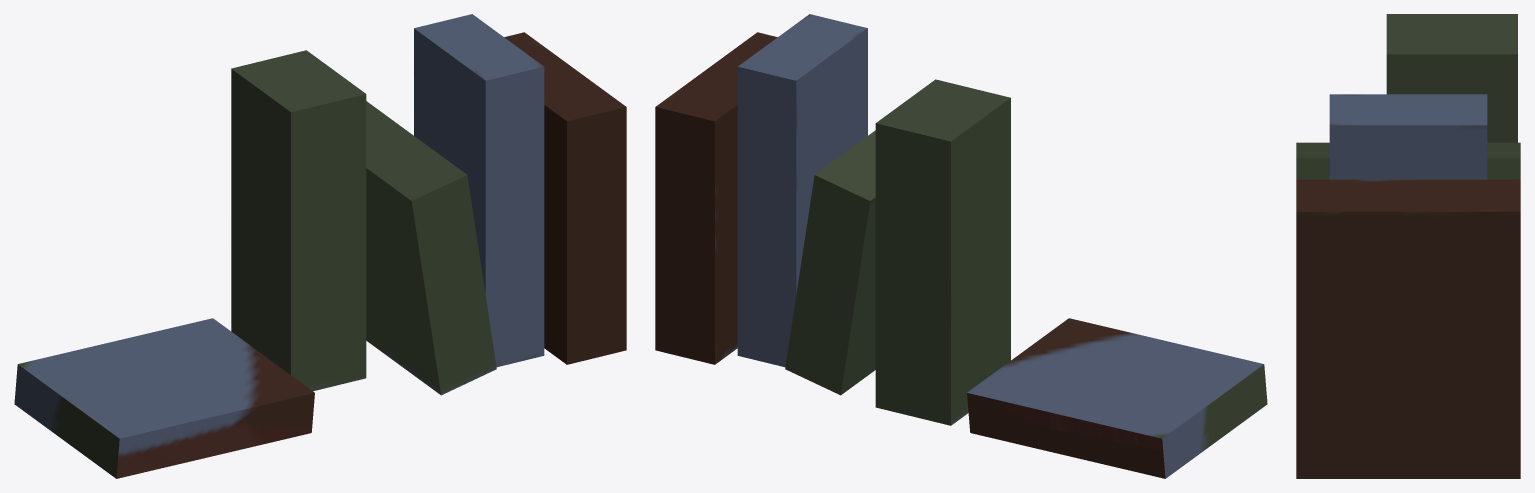
Rendered from Books_Var.fbx.
The picture shows the model from 3 angles, left to right: view 1: azimuth 30°, elevation 25°; view 2: azimuth 150°, elevation 25°; view 3: azimuth 270°, elevation 25°; orthographic projection. The views are drawn at different scales.
Visible parts, largest first — view 1: SK_Books1_Var; view 2: SK_Books1_Var; view 3: SK_Books1_Var.
Boxes of the visible parts, bbox=[...] form: SK_Books1_Var: bbox=[14, 14, 626, 478]; SK_Books1_Var: bbox=[655, 14, 1267, 478]; SK_Books1_Var: bbox=[1296, 14, 1520, 478].
Size of the model in its own units: 91.8 by 50.73 by 31.8.
